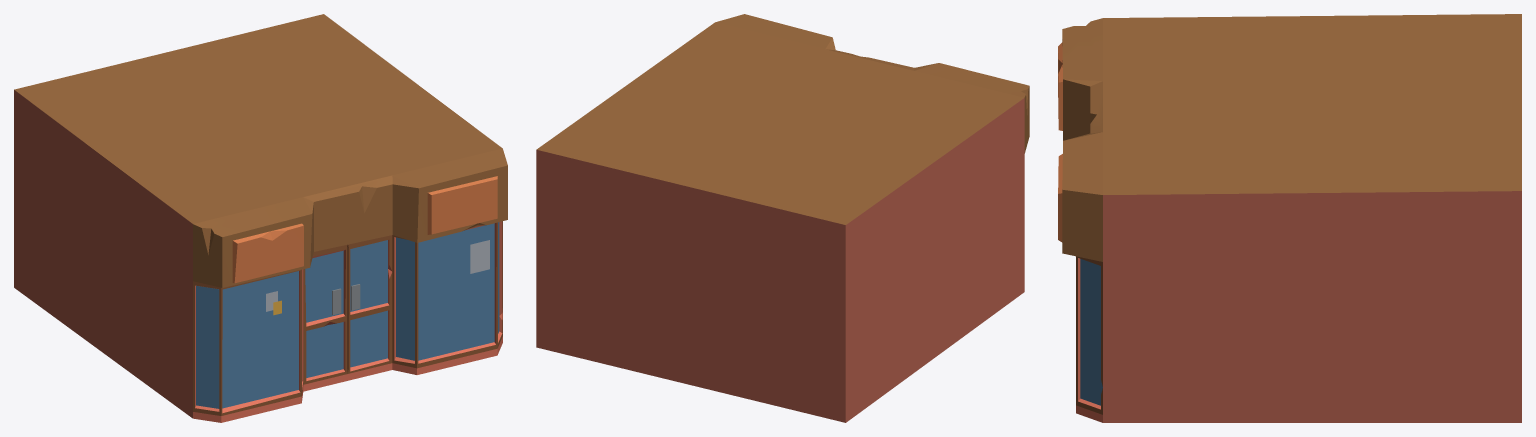
File: Mod_Tienda_3.fbx
The picture shows the model from 3 angles, left to right: view 1: azimuth 30°, elevation 25°; view 2: azimuth 150°, elevation 25°; view 3: azimuth 270°, elevation 25°; orthographic projection. The views are drawn at different scales.
Parts seen in each view (by area): view 1: SM_Bld_Shop_01, SM_Bld_Shop_01_Glass; view 2: SM_Bld_Shop_01; view 3: SM_Bld_Shop_01, SM_Bld_Shop_01_Glass.
Boxes of the visible parts, x1=… form: SM_Bld_Shop_01: x1=14, y1=14, x2=507, y2=422; SM_Bld_Shop_01_Glass: x1=196, y1=222, x2=499, y2=408; SM_Bld_Shop_01: x1=536, y1=14, x2=1029, y2=422; SM_Bld_Shop_01: x1=1058, y1=14, x2=1521, y2=422; SM_Bld_Shop_01_Glass: x1=1080, y1=259, x2=1102, y2=405.
Size of the model in its own units: 5 by 3.05 by 5.54.
